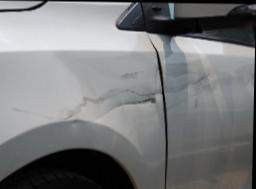Door: (161, 62, 230, 111)
Fender: (5, 58, 167, 134)
